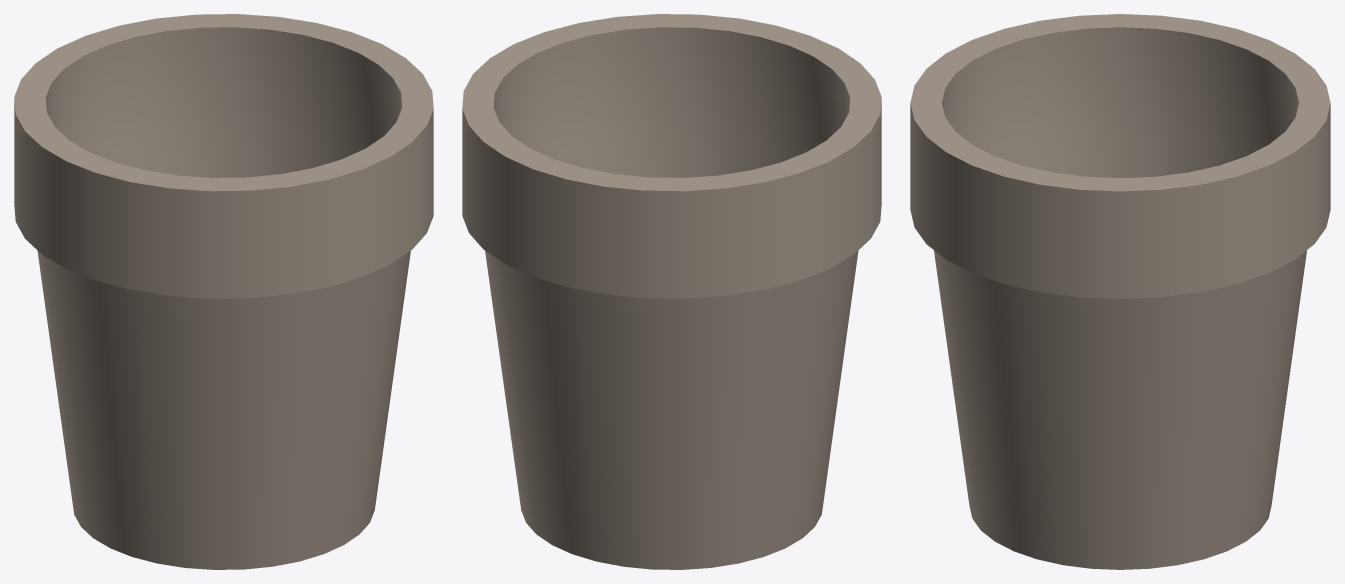
File: GrandPot_1.fbx
The picture shows the model from 3 angles, left to right: view 1: azimuth 30°, elevation 25°; view 2: azimuth 150°, elevation 25°; view 3: azimuth 270°, elevation 25°; orthographic projection.
Parts seen in each view (by area): view 1: pCylinder720; view 2: pCylinder720; view 3: pCylinder720.
Boxes of the visible parts, box(x1,y1,x2,y2) form: pCylinder720: box(14, 14, 433, 569); pCylinder720: box(462, 14, 881, 569); pCylinder720: box(910, 14, 1330, 569).
Bounding box in the file's own units: 11.21 × 11.87 × 11.21.
